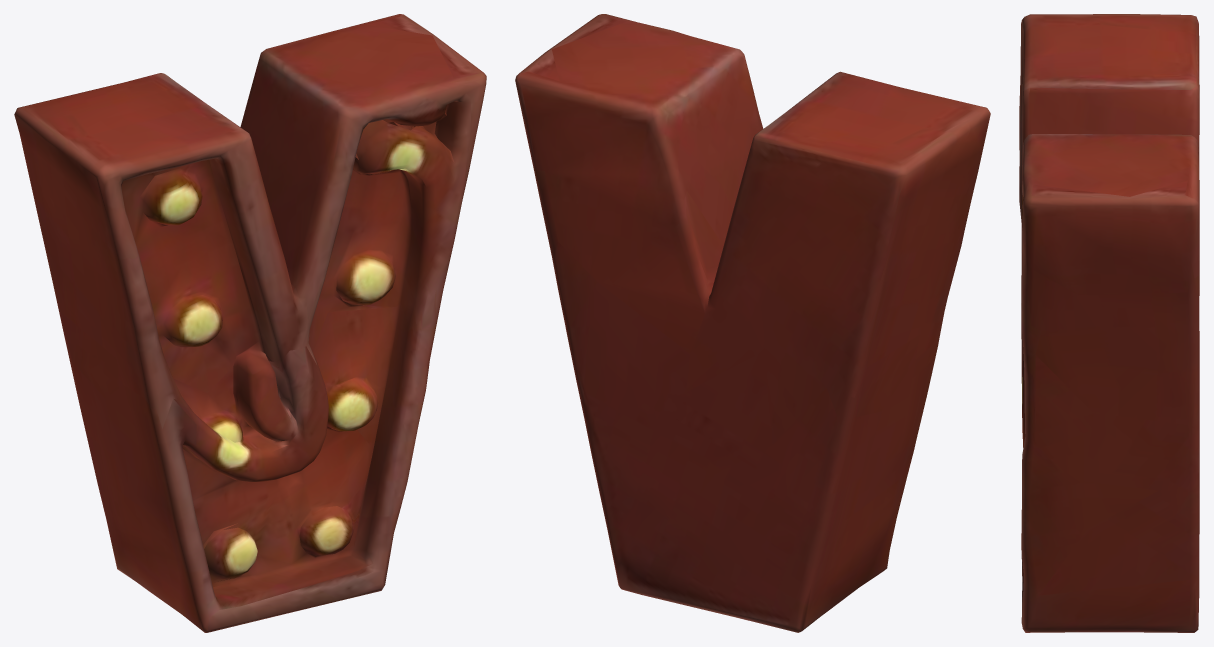
The model's file is letter_v_idle.glb.
3 renders of one model, left to right at view 1: azimuth 30°, elevation 25°; view 2: azimuth 150°, elevation 25°; view 3: azimuth 270°, elevation 25°, orthographic.
Parts seen in each view (by area): view 1: tmp_letters_u_z_0_3_01; view 2: tmp_letters_u_z_0_3_01; view 3: tmp_letters_u_z_0_3_01.
Boxes of the visible parts, <box> form: tmp_letters_u_z_0_3_01: <box>14,14,486,632</box>; tmp_letters_u_z_0_3_01: <box>515,14,990,632</box>; tmp_letters_u_z_0_3_01: <box>1019,14,1199,632</box>.
Bounding box in the file's own units: 0.8351 × 0.9997 × 0.3358.
1 material, 1 textured.
